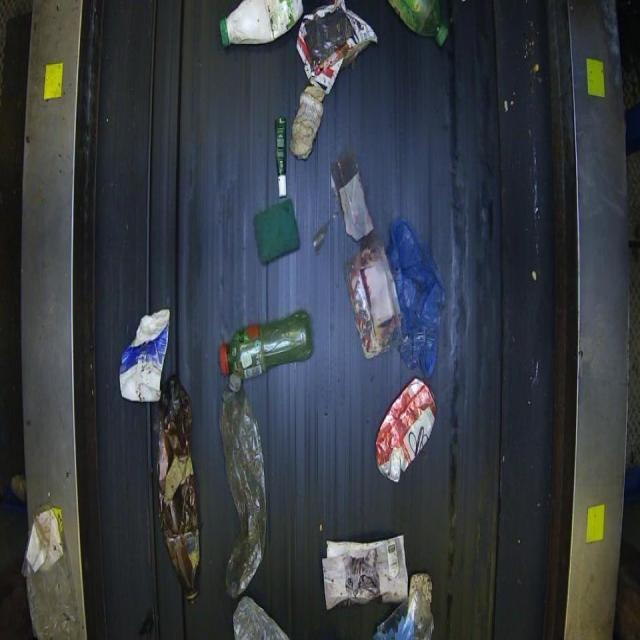cups: (218, 309, 313, 380), (218, 0, 303, 47)
